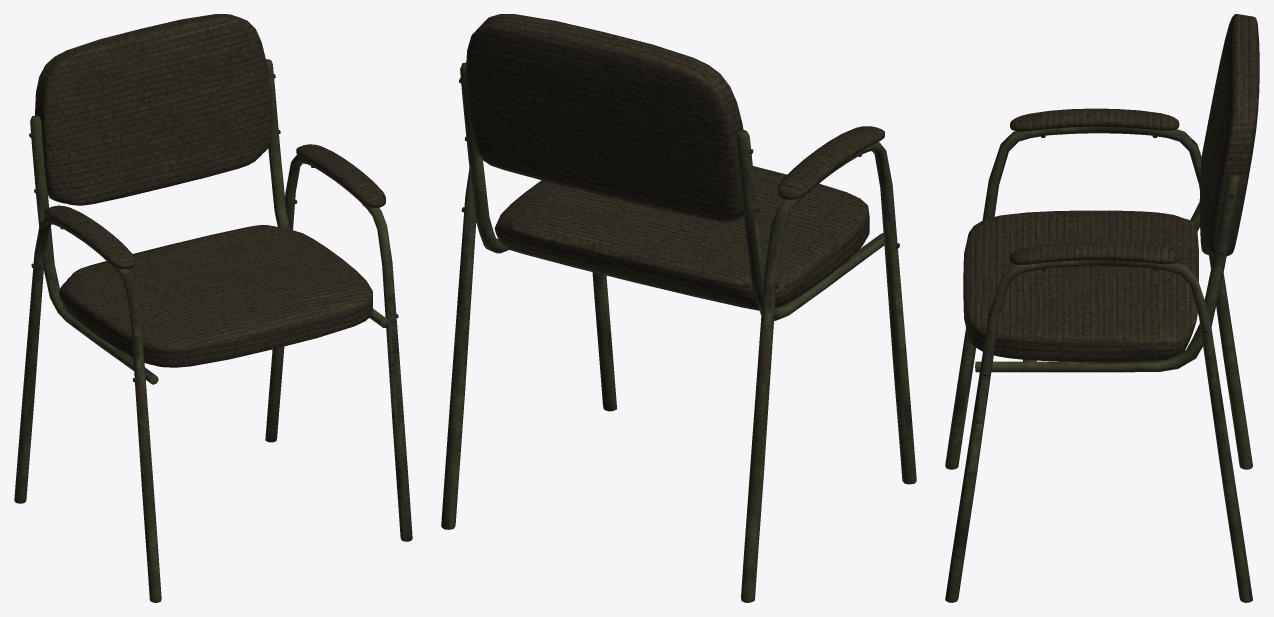
Rendered from chair_2.glb.
3 renders of one model, left to right at view 1: azimuth 30°, elevation 25°; view 2: azimuth 150°, elevation 25°; view 3: azimuth 270°, elevation 25°, orthographic. The views are drawn at different scales.
Parts seen in each view (by area): view 1: chair_2; view 2: chair_2; view 3: chair_2.
Part boxes in pixels (x1=…): chair_2: x1=14, y1=14, x2=412, y2=602; chair_2: x1=441, y1=14, x2=916, y2=602; chair_2: x1=945, y1=14, x2=1259, y2=602.
Bounding box in the file's own units: 0.7744 × 1.19 × 0.7036.
3 materials, 3 textured.
